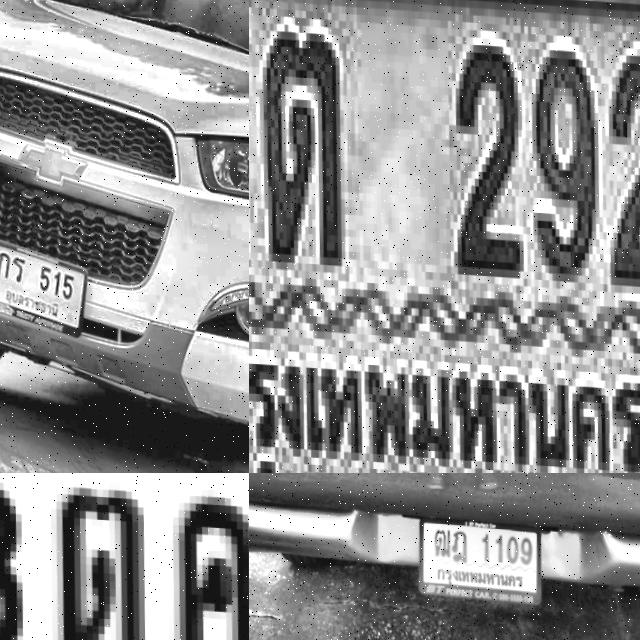license-plate: (249, 0, 640, 473), (0, 473, 249, 640), (415, 513, 540, 604), (0, 227, 88, 337)
